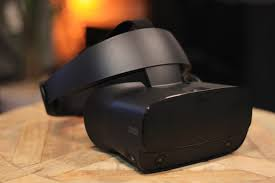oculus: (41, 36, 255, 172)
